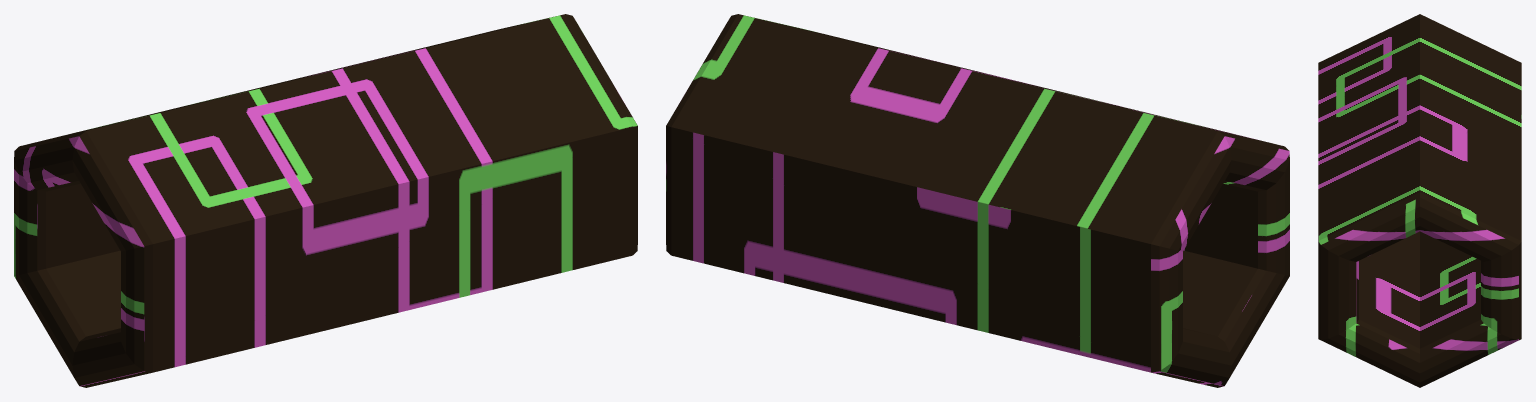
File: tunnel.obj
3 renders of one model, left to right at view 1: azimuth 30°, elevation 25°; view 2: azimuth 150°, elevation 25°; view 3: azimuth 270°, elevation 25°, orthographic. The views are drawn at different scales.
Visible parts, largest first — view 1: トーラス; view 2: トーラス; view 3: トーラス.
Boxes of the visible parts, <box> form: トーラス: <box>14,14,637,387</box>; トーラス: <box>666,14,1289,387</box>; トーラス: <box>1318,14,1521,387</box>.
Bounding box in the file's own units: 140 × 67.92 × 64.04.
Materials: 1 (1 with a texture image).
